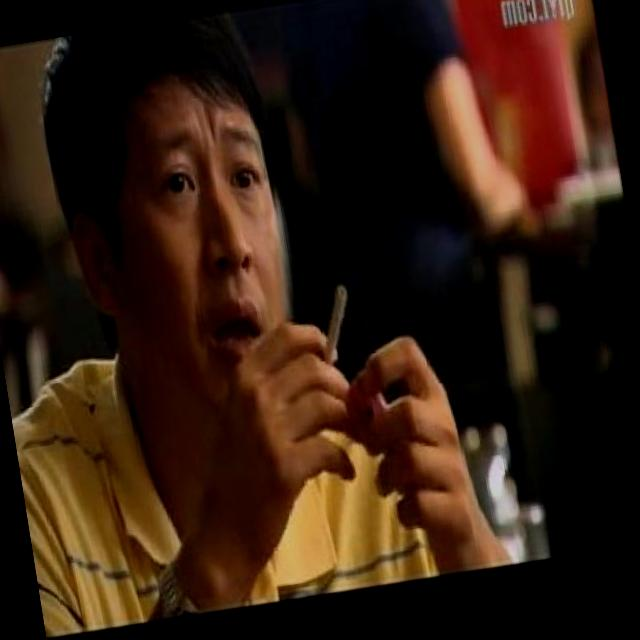smoke: (218, 279, 387, 536)
